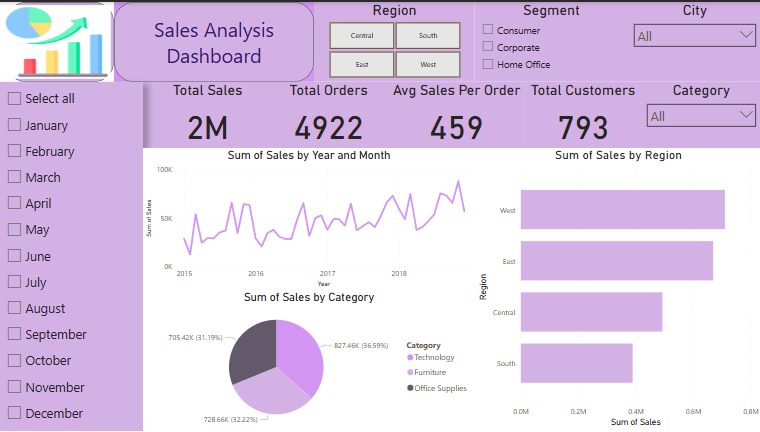

The page's visual inventory and layout, read from the dashboard file:
{"tool":"powerbi","page":{"name":"Executive Summary","canvas":[1280,720],"ordinal":0},"visuals":[{"type":"shape","box":[10.1,0,181.4,134.4],"z":0},{"type":"image","box":[0,0,191.5,134.4],"z":1000},{"type":"shape","box":[191.5,0,336,134.4],"z":2000},{"type":"card","title":"Total Sales","fields":{"Values":["All Measures.Total Sales"]},"box":[240.2,134.4,216.7,110.9],"z":3000},{"type":"slicer","title":"Region","fields":{"Values":["train.Region"]},"box":[527.5,0,270.4,134.4],"z":4000},{"type":"slicer","title":"Order Month","fields":{"Values":["train.Order Date.Variation.Date Hierarchy.Month"]},"box":[0,134.4,240.2,586.2],"z":5000},{"type":"card","title":"Total Orders","fields":{"Values":["All Measures.Total Orders"]},"box":[451.9,134.4,199.9,110.9],"z":6000},{"type":"card","title":"Avg Sales Per Order","fields":{"Values":["All Measures.Avg Sales per Order"]},"box":[651.8,134.4,230.1,110.9],"z":7000},{"type":"card","title":"Total Customers","fields":{"Values":["All Measures.Total Customers"]},"box":[881.9,134.4,194.9,110.9],"z":8000},{"type":"slicer","title":"Segment","fields":{"Values":["train.Segment"]},"box":[797.9,0,257,134.4],"z":9000},{"type":"lineChart","fields":{"Category":["train.Order Date.Variation.Date Hierarchy.Year","train.Order Date.Variation.Date Hierarchy.Month"],"Y":["Sum(train.Sales)"]},"box":[240.2,245.2,557.7,238.5],"z":10000},{"type":"pieChart","fields":{"Category":["train.Category"],"Y":["Sum(train.Sales)"]},"box":[240.2,483.8,557.7,236.9],"z":11000},{"type":"barChart","fields":{"Category":["train.Region"],"Y":["Sum(train.Sales)"]},"box":[797.9,245.2,482.1,473.7],"z":12000},{"type":"slicer","title":"City","fields":{"Values":["train.City"]},"box":[1054.9,0,225.1,134.4],"z":13000},{"type":"slicer","title":"Category","fields":{"Values":["train.Category"]},"box":[1076.7,134.4,203.3,110.9],"z":14000}]}

Visuals, with their boxes in screenshot pixels (x1, y1, x2, y2), scaled from the page's 1280x720 canvas onto the 760x432 screenshot:
shape: x1=6, y1=0, x2=114, y2=81
image: x1=0, y1=0, x2=114, y2=81
shape: x1=114, y1=0, x2=313, y2=81
"Total Sales" card: x1=143, y1=81, x2=271, y2=147
"Region" slicer: x1=313, y1=0, x2=474, y2=81
"Order Month" slicer: x1=0, y1=81, x2=143, y2=431
"Total Orders" card: x1=268, y1=81, x2=387, y2=147
"Avg Sales Per Order" card: x1=387, y1=81, x2=524, y2=147
"Total Customers" card: x1=524, y1=81, x2=639, y2=147
"Segment" slicer: x1=474, y1=0, x2=626, y2=81
lineChart - train.Order Date.Variation.Date Hierarchy.Year x train.Order Date.Variation.Date Hierarchy.Month: x1=143, y1=147, x2=474, y2=290
pieChart - train.Category x Sum(train.Sales): x1=143, y1=290, x2=474, y2=431
barChart - train.Region x Sum(train.Sales): x1=474, y1=147, x2=759, y2=431
"City" slicer: x1=626, y1=0, x2=759, y2=81
"Category" slicer: x1=639, y1=81, x2=759, y2=147
